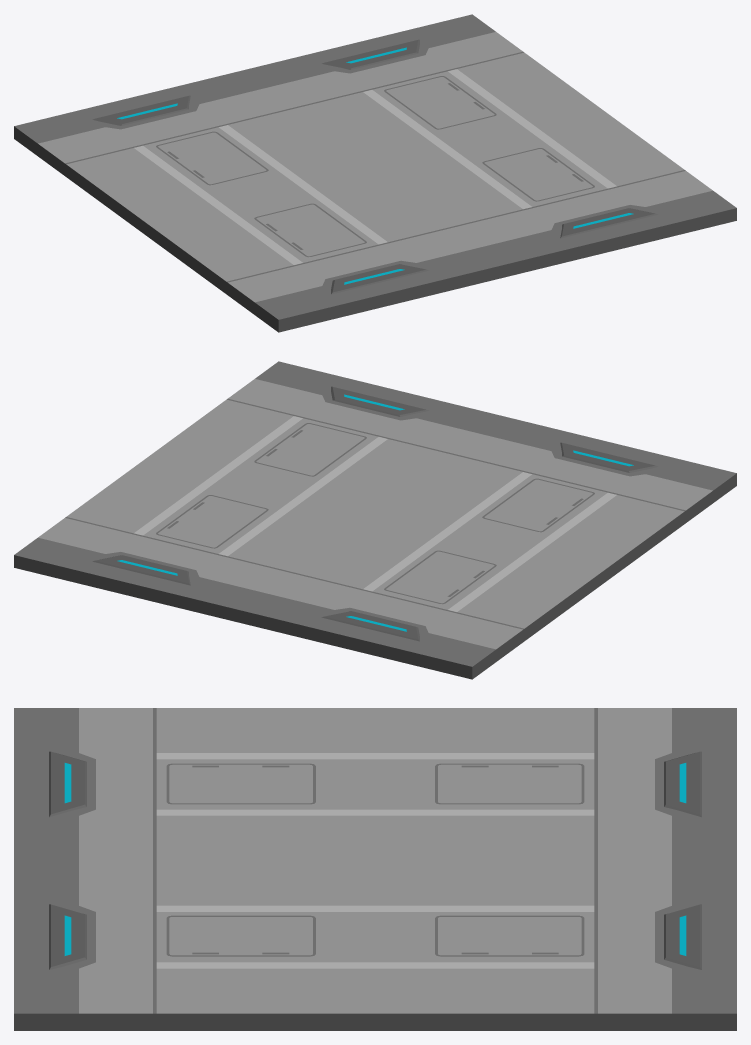
File: tile_platform_006.fbx
3 renders of one model, top to bottom at view 1: azimuth 30°, elevation 25°; view 2: azimuth 150°, elevation 25°; view 3: azimuth 270°, elevation 25°, orthographic. The views are drawn at different scales.
Visible parts, largest first — view 1: tile_platform_006; view 2: tile_platform_006; view 3: tile_platform_006.
Boxes of the visible parts, bbox=[...] form: tile_platform_006: bbox=[14, 14, 736, 332]; tile_platform_006: bbox=[14, 361, 736, 679]; tile_platform_006: bbox=[14, 708, 736, 1030].
Bounding box in the file's own units: 800 × 800 × 22.89.
